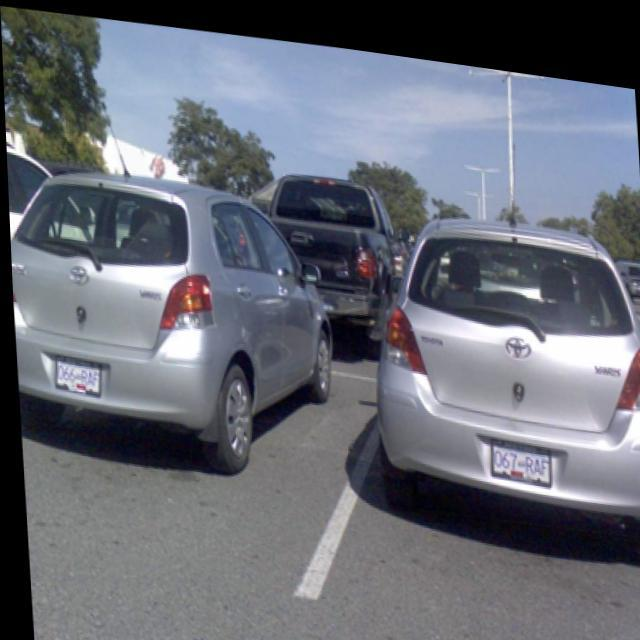license_plate: (486, 426, 546, 472), (49, 352, 100, 397)
